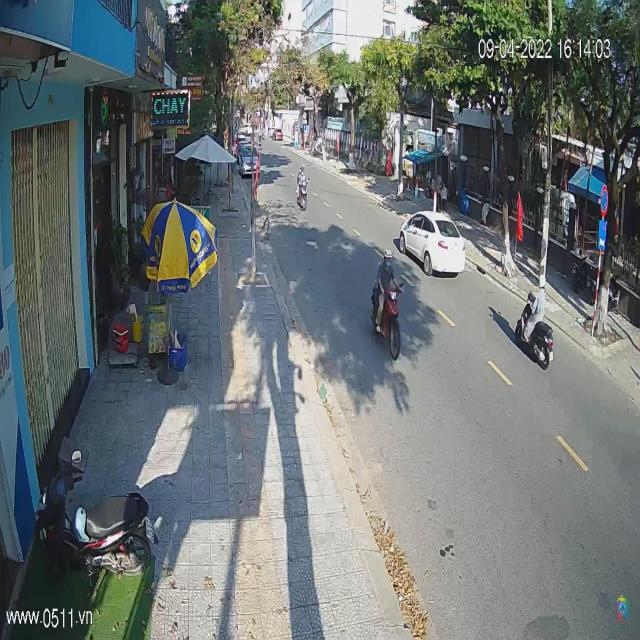car: (396, 210, 470, 279), (272, 128, 283, 141)
motorcycle: (368, 268, 406, 367), (515, 289, 556, 374), (296, 172, 310, 213)
